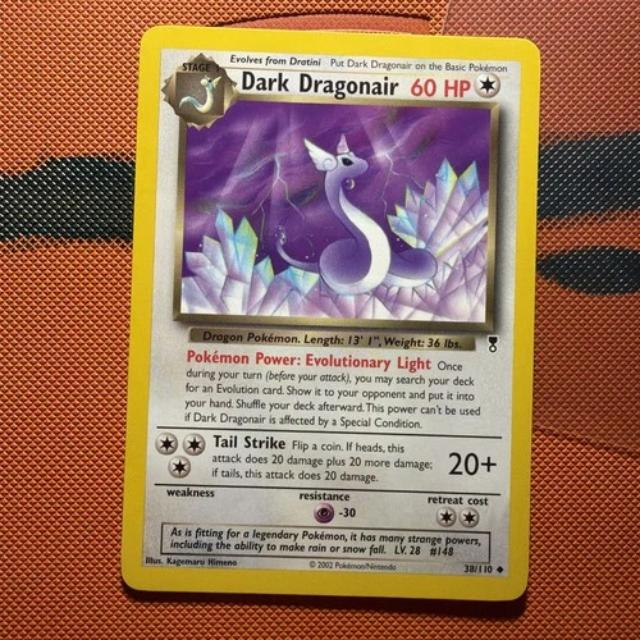Card: (116, 19, 544, 606)
Name: (234, 68, 405, 106)
